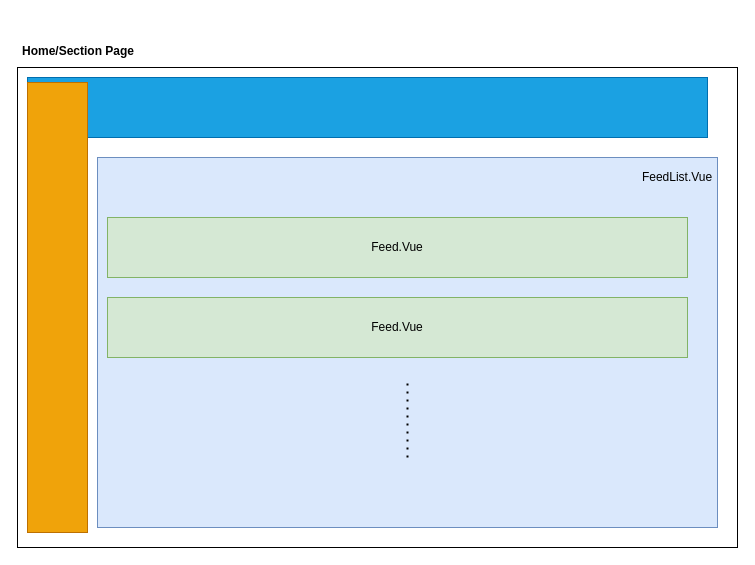
Some shapes in this 755 by 565 pixel diagram are drawn without their labels. The shapes that lost their labels are listed below. From the top down, each one's box as (x1, y1, x2, y2) in pixels, then its label:
(26, 76, 708, 138): Header.vue
(26, 82, 88, 532): Sidebar.Vue
